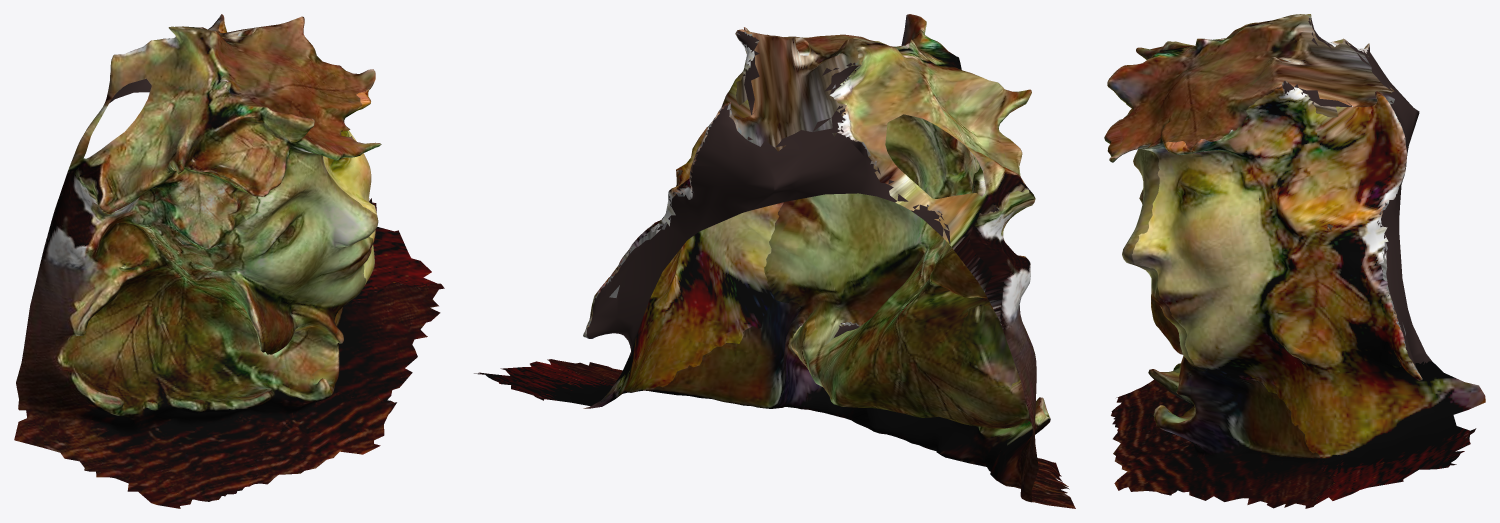
File: bladerKop.obj
3 views of the same model, side by side, from view 1: azimuth 30°, elevation 25°; view 2: azimuth 150°, elevation 25°; view 3: azimuth 270°, elevation 25° (orthographic). The views are drawn at different scales.
Size of the model in its own units: 20.25 by 17.34 by 13.98.
Materials: 1 (1 with a texture image).
